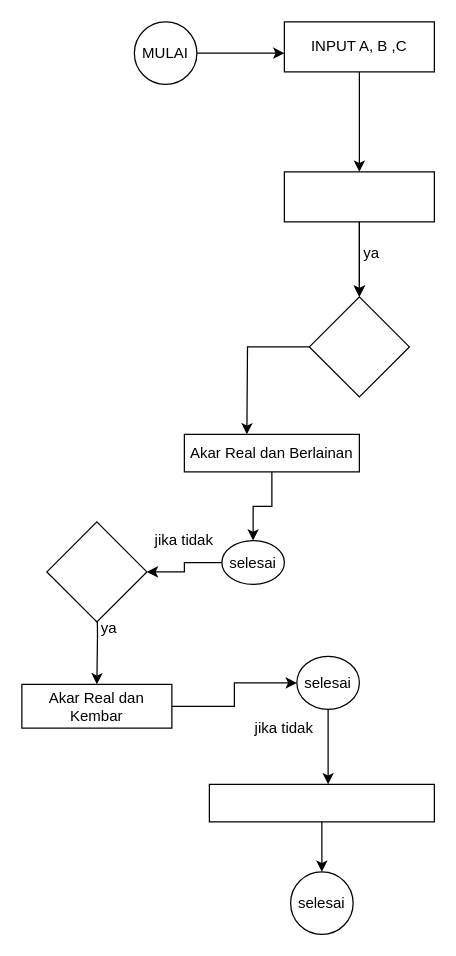
This 456x956 diagram has some shape labels left out. The shapes that lost their labels are listed below. From the top down, each one's centre as x and y in pixels, then its label:
At pixel 358 196: "HITUNG D = b²-4ac".
At pixel 358 346: "Apakah D > 0 ?".
At pixel 96 571: "Apakah D = 0 ?".
At pixel 321 802: "Akar Imajiner /Tidak Real".
